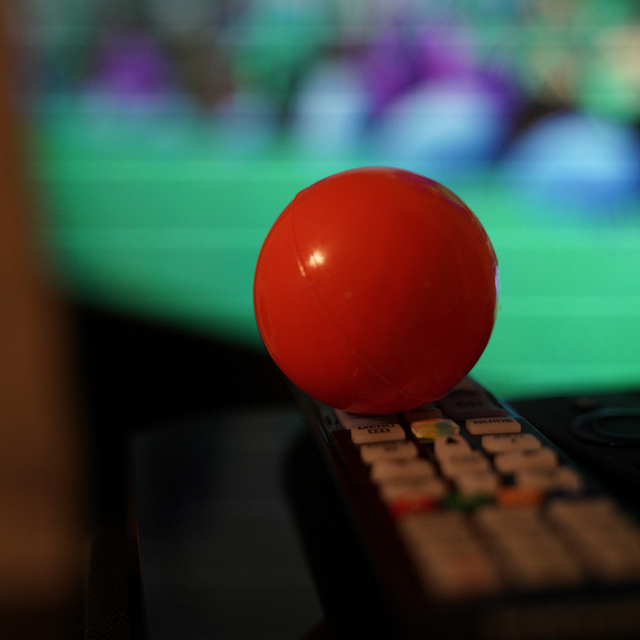Ball: (249, 167, 506, 415)
